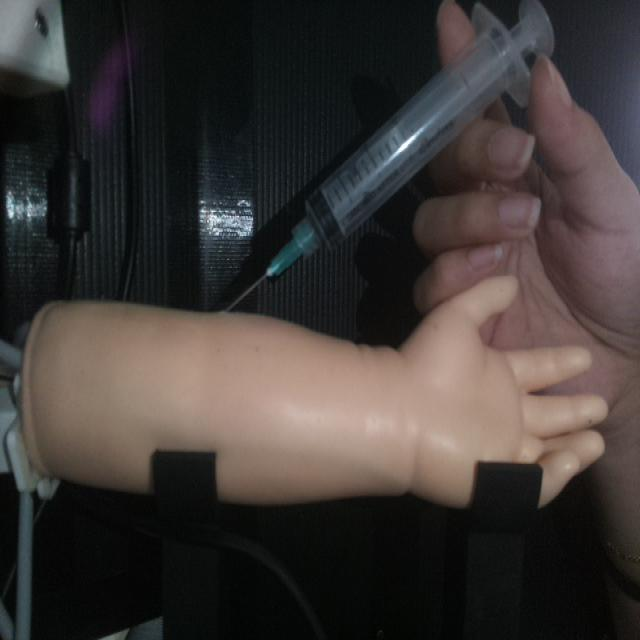Above 30 degrees: (219, 0, 556, 312)
